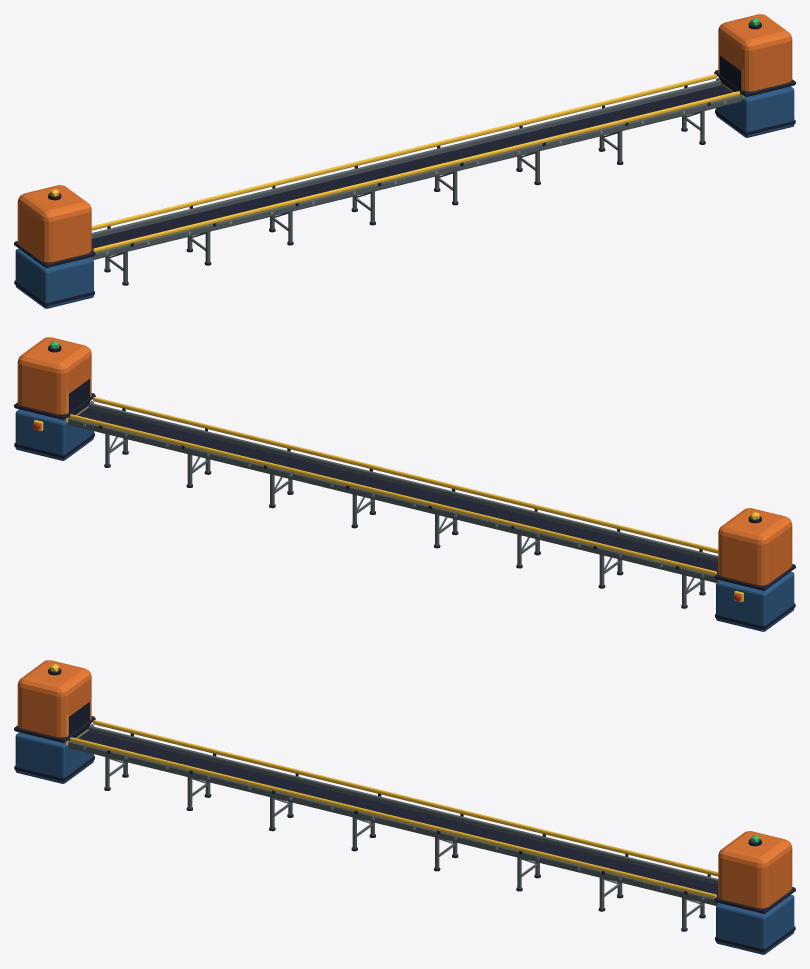
The model's file is sm_env_depot_conveyor.glb.
3 views of the same model, one above another, from view 1: azimuth 30°, elevation 25°; view 2: azimuth 150°, elevation 25°; view 3: azimuth 330°, elevation 25° (orthographic).
Visible parts, largest first — view 1: BedPan, SideChannel.001, PortalHood, PortalHood.001, SideChannel, GuardRail.001, GuardRail, PortalBase, PortalBase.001; view 2: BedPan, SideChannel, PortalHood, PortalHood.001, SideChannel.001, GuardRail, GuardRail.001, PortalBase, PortalBase.001; view 3: BedPan, SideChannel.001, PortalHood.001, PortalHood, SideChannel, GuardRail.001, GuardRail, PortalBase.001, PortalBase.
Part boxes in pixels (box(x1,y1,x2,y2)): BedPan: box(91, 85, 731, 250); SideChannel.001: box(91, 95, 744, 259); PortalHood: box(17, 185, 91, 265); PortalHood.001: box(718, 14, 792, 95); SideChannel: box(91, 79, 721, 238); GuardRail.001: box(93, 91, 740, 252); GuardRail: box(91, 74, 716, 230); PortalBase: box(15, 248, 93, 308); PortalBase.001: box(716, 78, 794, 137); BedPan: box(78, 408, 718, 573); SideChannel: box(65, 418, 718, 582); PortalHood: box(718, 508, 792, 588); PortalHood.001: box(17, 337, 91, 418); SideChannel.001: box(88, 402, 718, 561); GuardRail: box(69, 414, 716, 575); GuardRail.001: box(93, 397, 718, 553); PortalBase: box(716, 571, 794, 631); PortalBase.001: box(15, 401, 93, 460); BedPan: box(78, 731, 718, 896); SideChannel.001: box(65, 741, 718, 905); PortalHood.001: box(718, 831, 792, 911); PortalHood: box(17, 660, 91, 741); SideChannel: box(88, 725, 718, 884); GuardRail.001: box(69, 737, 716, 898); GuardRail: box(93, 720, 718, 876); PortalBase.001: box(716, 894, 794, 954); PortalBase: box(15, 724, 93, 783).
Bounding box in the file's own units: 18.24 × 2.41 × 1.46.
